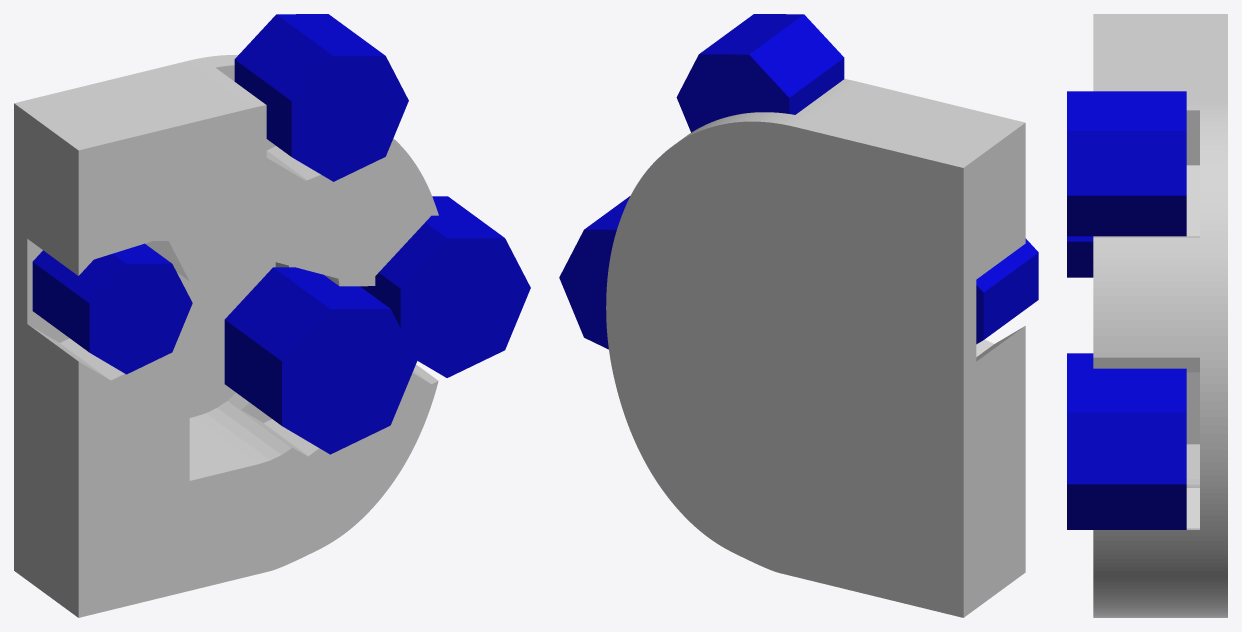
The model's file is Ch_Lite_D_01.fbx.
3 views of the same model, side by side, from view 1: azimuth 30°, elevation 25°; view 2: azimuth 150°, elevation 25°; view 3: azimuth 270°, elevation 25° (orthographic). The views are drawn at different scales.
Parts seen in each view (by area): view 1: sphere1; view 2: sphere1; view 3: sphere1.
Part boxes in pixels (x1,y1,x2,y2): sphere1: (14, 14, 530, 617); sphere1: (559, 14, 1038, 617); sphere1: (1067, 14, 1227, 617).
Size of the model in its own units: 0.79 by 0.8758 by 0.2387.
